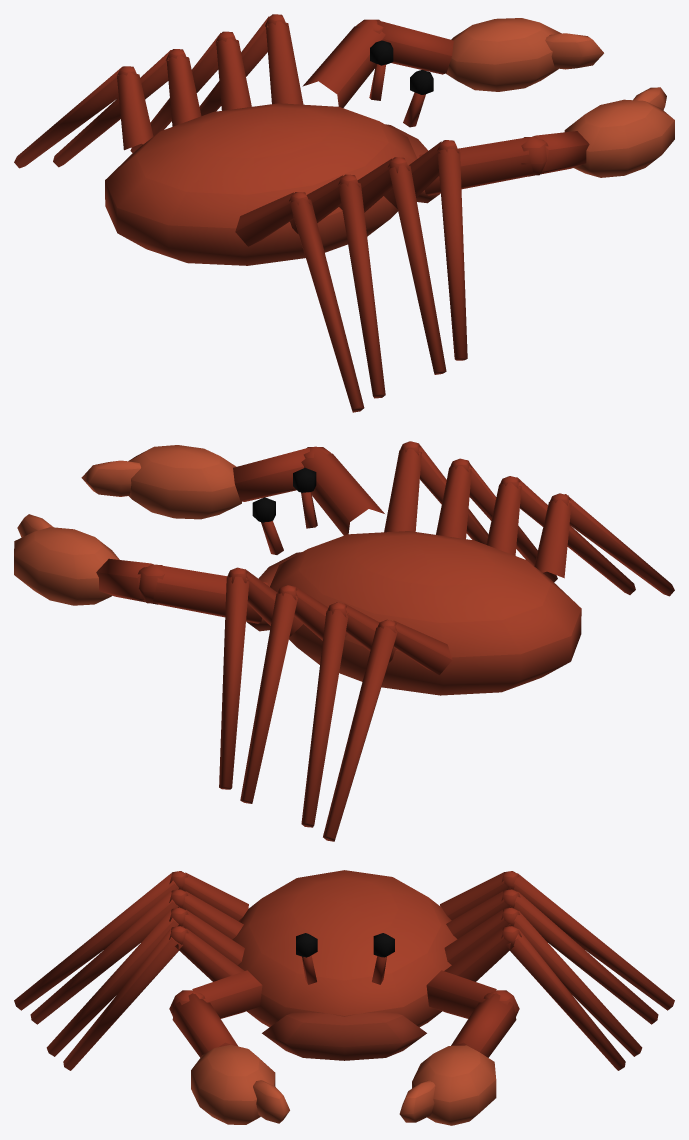
The model's file is crab.glb.
3 views of the same model, one above another, from view 1: azimuth 30°, elevation 25°; view 2: azimuth 150°, elevation 25°; view 3: azimuth 270°, elevation 25° (orthographic). The views are drawn at different scales.
Visible parts, largest first — view 1: crab; view 2: crab; view 3: crab.
Boxes of the visible parts, box(x1,y1,x2,y2) form: crab: box(14, 14, 674, 412); crab: box(14, 441, 674, 841); crab: box(14, 870, 674, 1125).
Size of the model in its own units: 1.05 by 0.3522 by 1.2.
